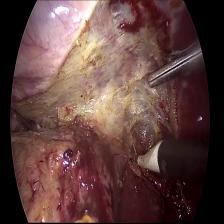Grasper: (142, 38, 202, 90)
Hook: (127, 134, 167, 182)
